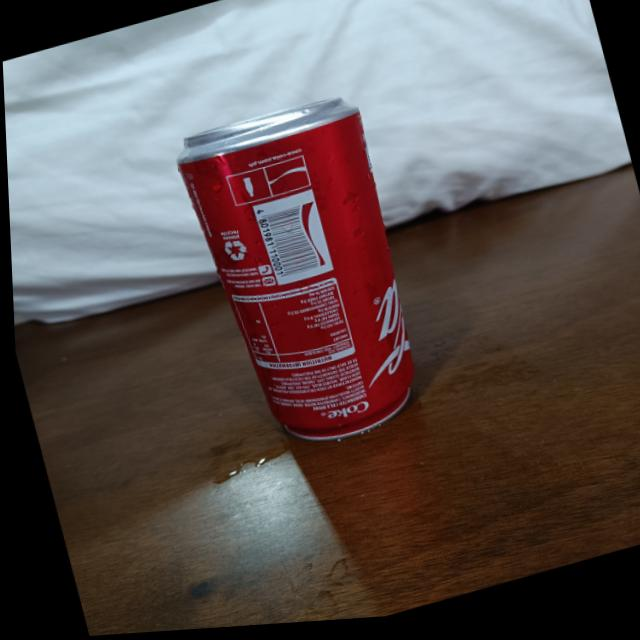coke: (182, 90, 438, 467)
